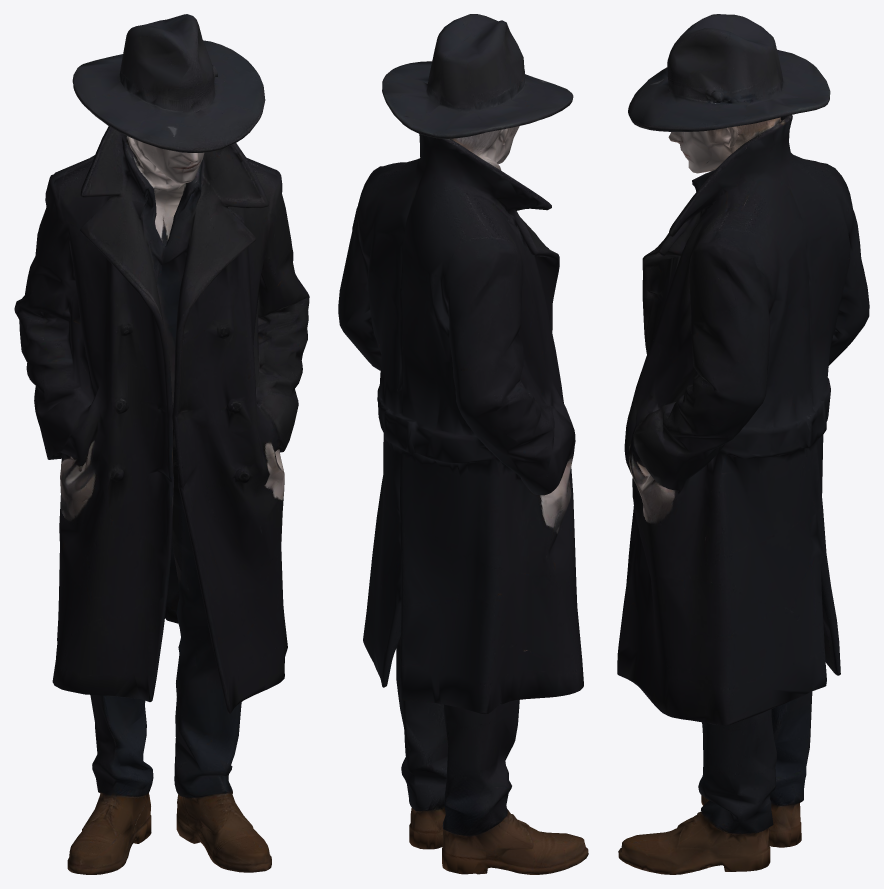
The model's file is private_detectiv.glb.
3 views of the same model, side by side, from view 1: azimuth 30°, elevation 25°; view 2: azimuth 150°, elevation 25°; view 3: azimuth 270°, elevation 25° (orthographic).
Size of the model in its own units: 0.5867 by 1.9 by 0.5267.
Materials: 1 (1 with a texture image).
